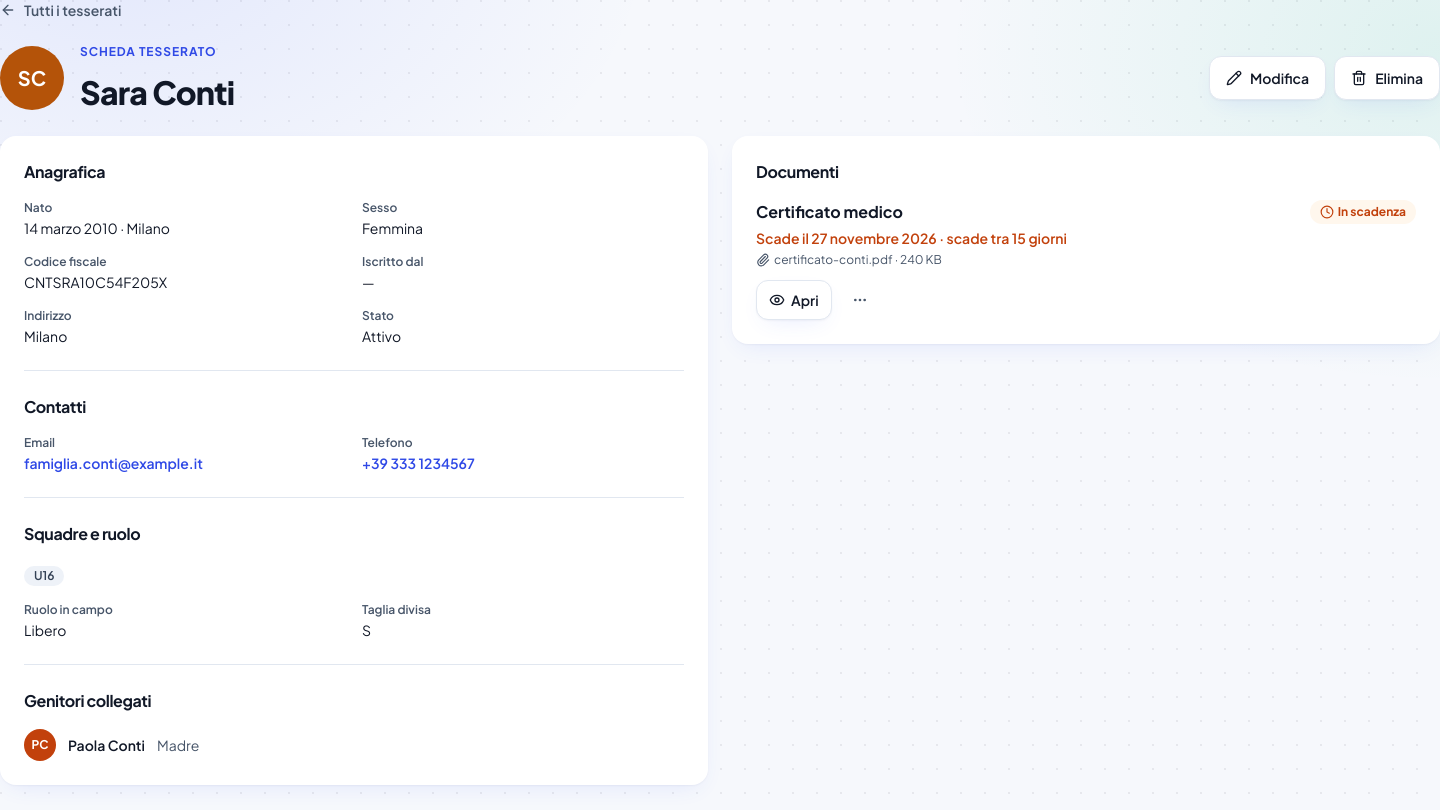
it: MemberDetailPage › keeps the member and shows the problem when the deletion fails
Step 1. Click the button "Elimina" → click(1387, 78), box [1334,56,1439,100]
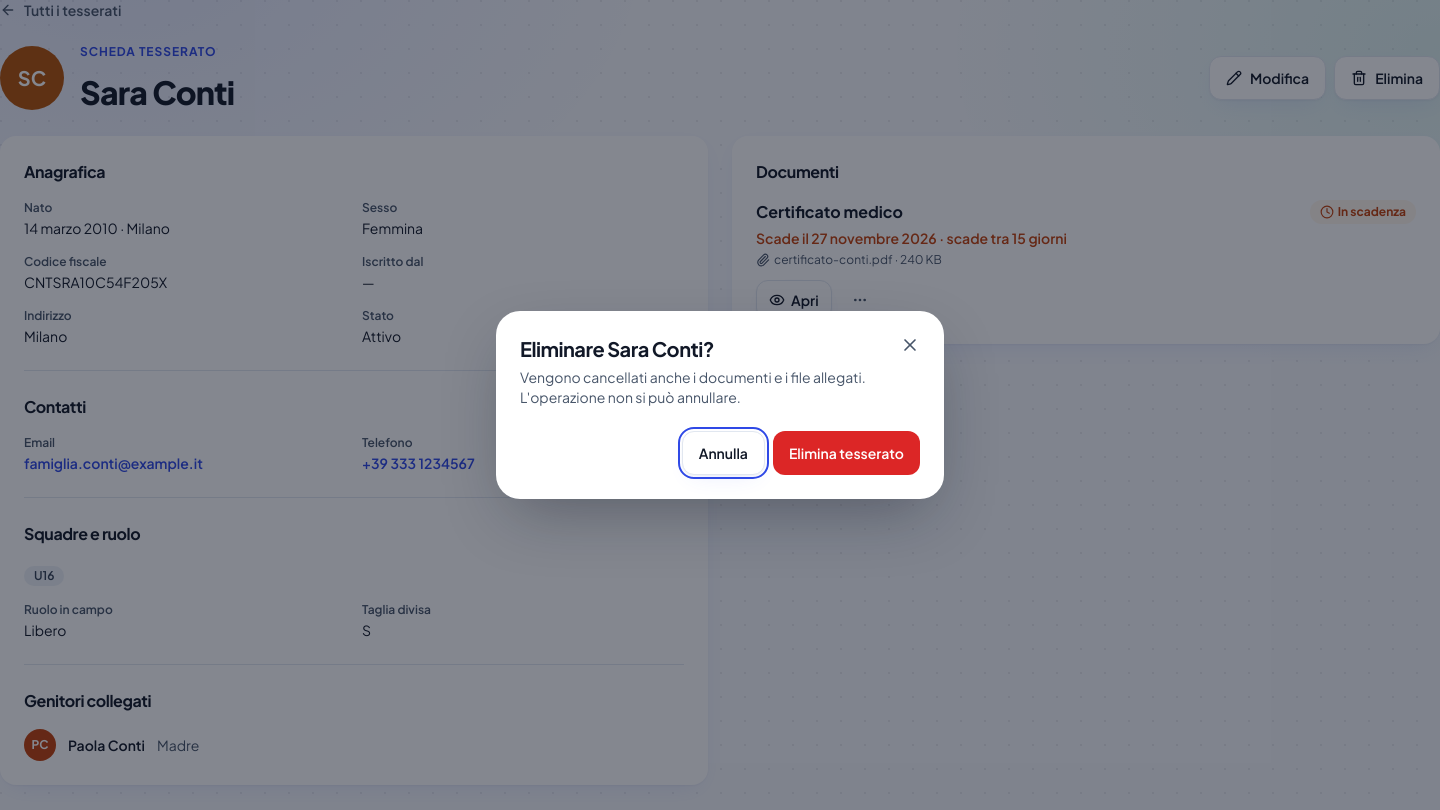
Step 2. Click the button "Elimina tesserato" → click(846, 453), box [773,431,920,475]
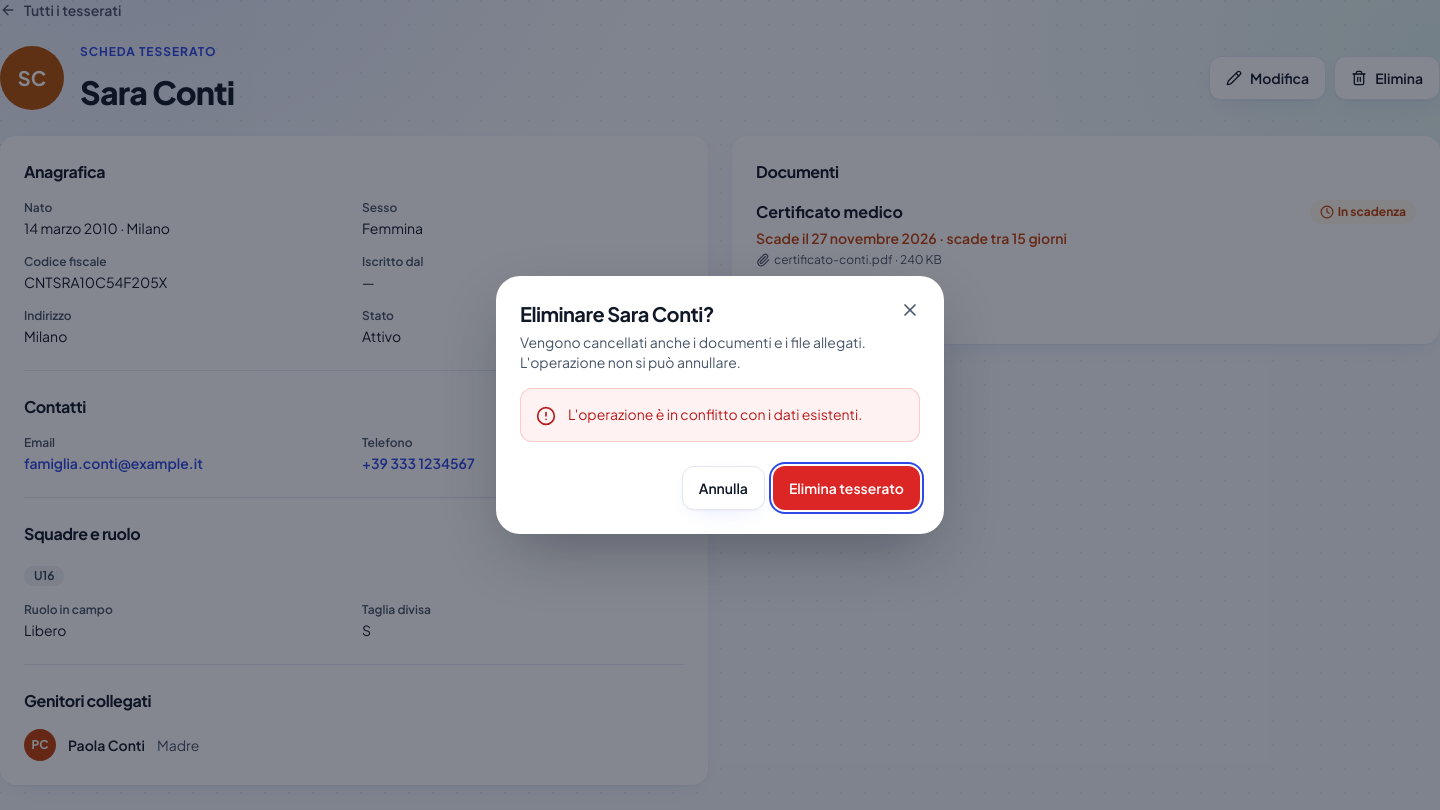
Expected: the message shows "in conflitto", [568,405,862,423]
